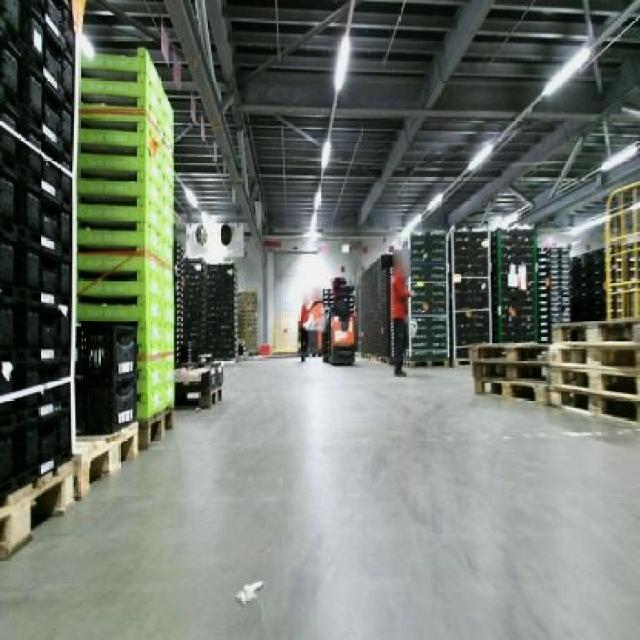floor: (0, 357, 637, 637)
pallets: (75, 46, 171, 445), (548, 318, 637, 417), (408, 232, 446, 358)
